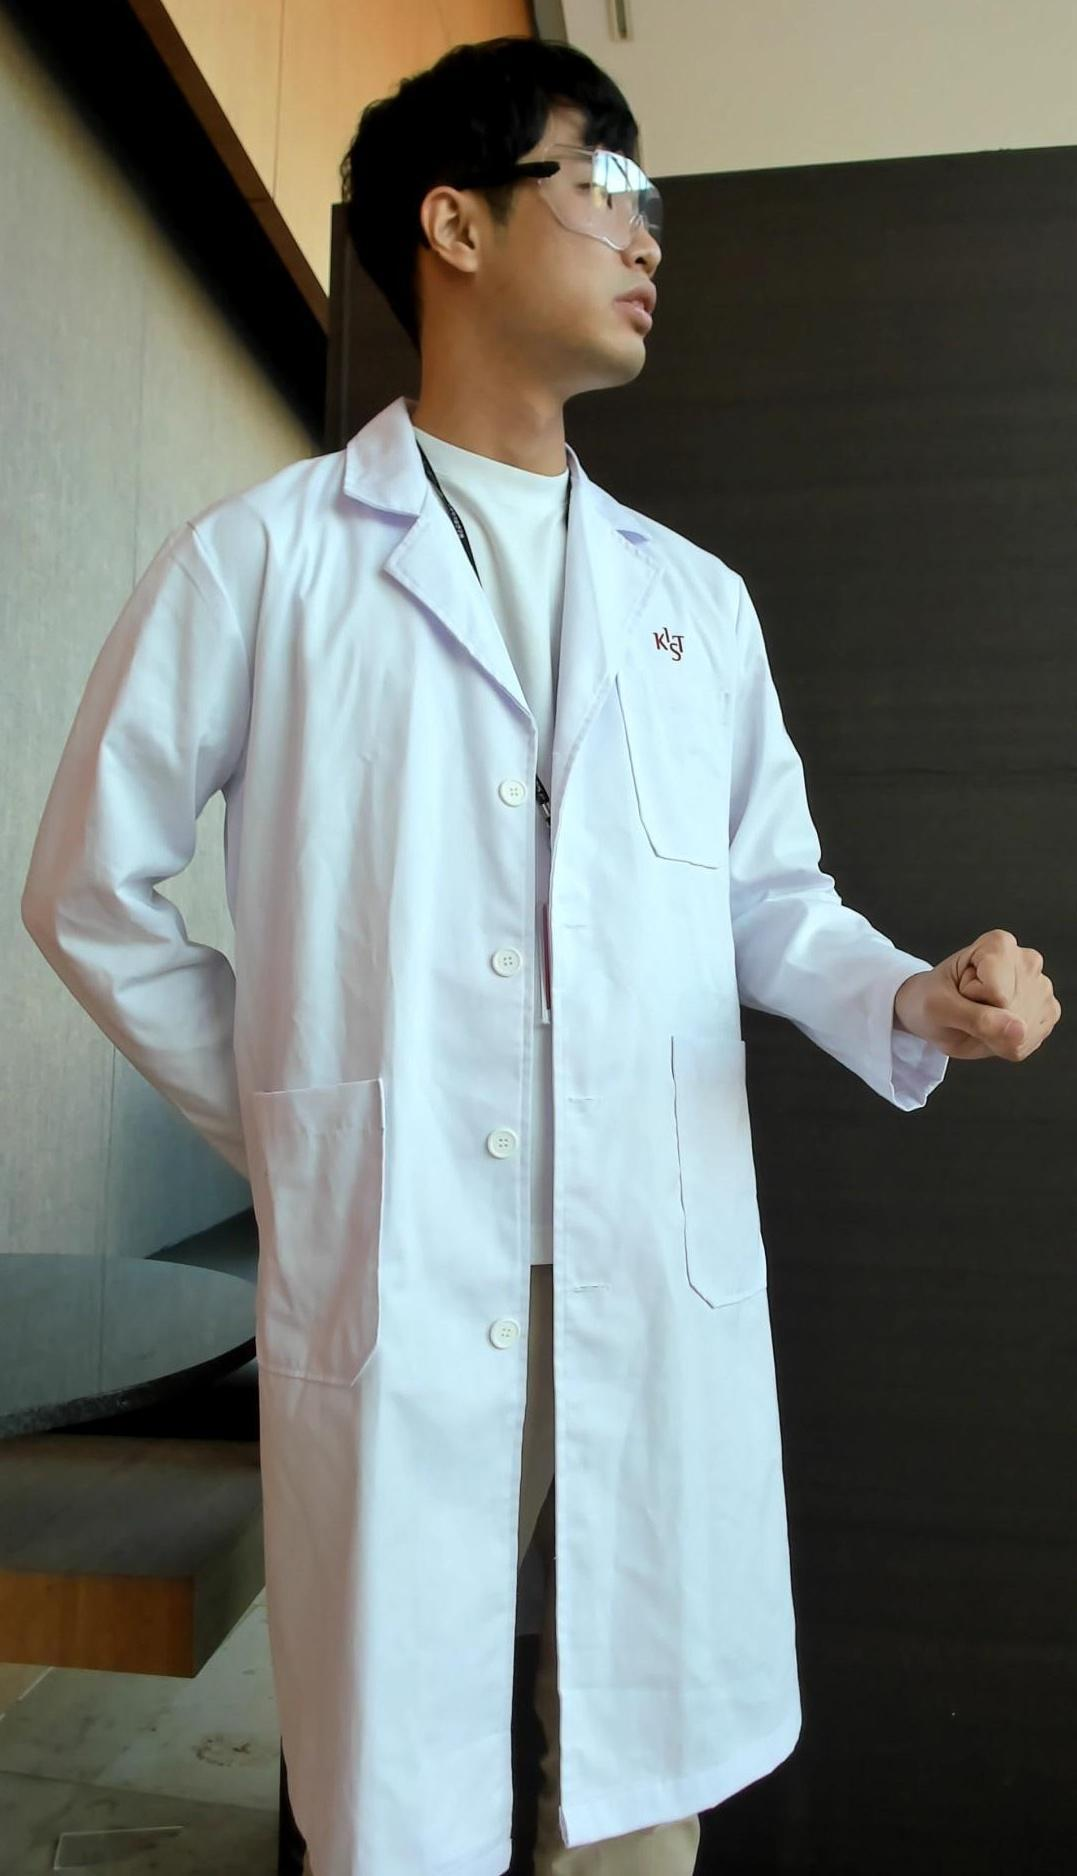lab_coat: (27, 445, 877, 1876)
